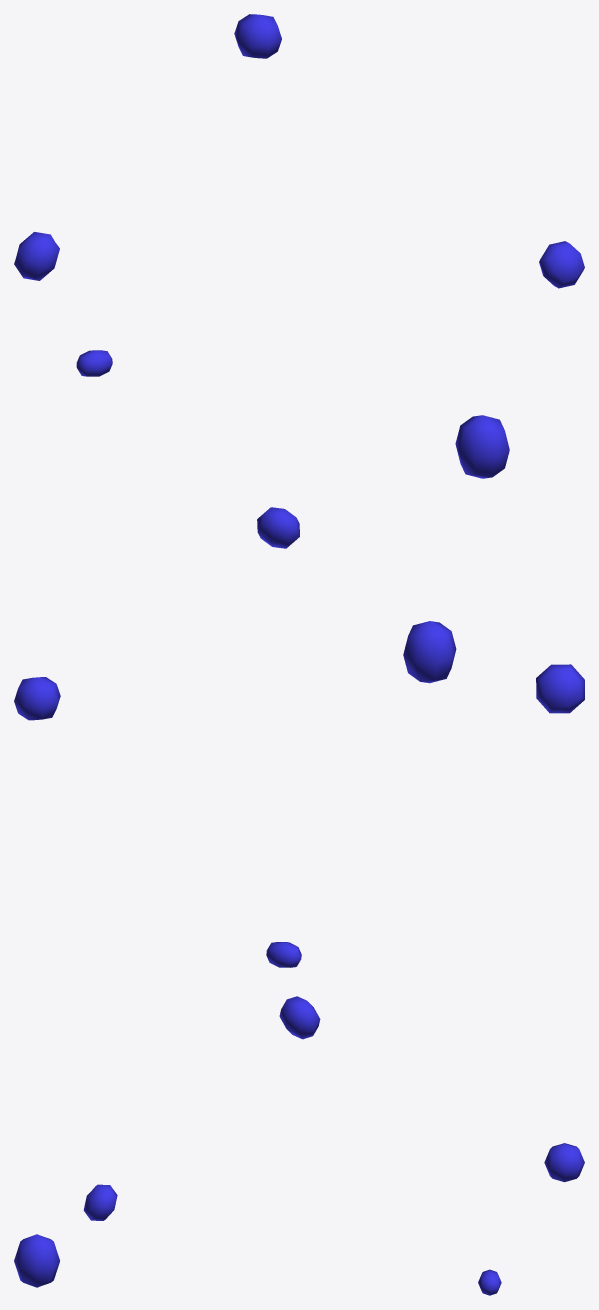
File: Planet_Acc_Debris.fbx
3 renders of one model, top to bottom at view 1: azimuth 30°, elevation 25°; view 2: azimuth 150°, elevation 25°; view 3: azimuth 270°, elevation 25°, orthographic. The views are drawn at different scales.
Visible parts, largest first — view 1: Debris; view 2: Debris; view 3: Debris.
Boxes of the visible parts, x1=… form: Debris: x1=14, y1=14, x2=584, y2=478; Debris: x1=14, y1=507, x2=584, y2=967; Debris: x1=14, y1=996, x2=584, y2=1295.
Bounding box in the file's own units: 2.17 × 1.29 × 2.84.
